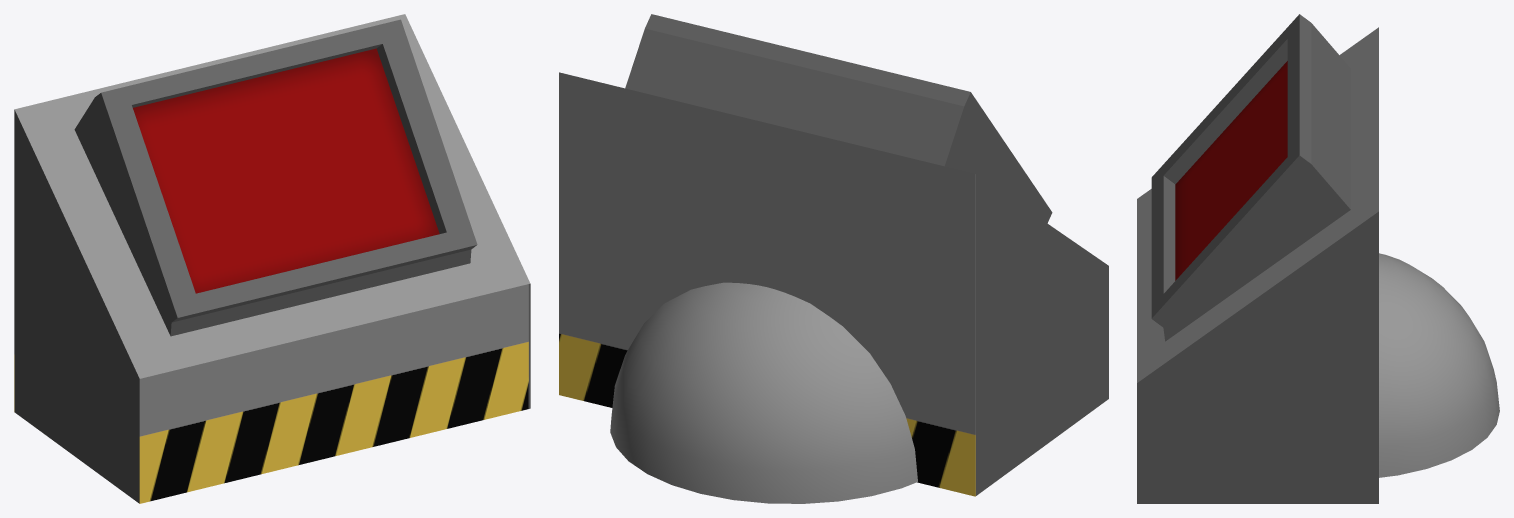
The model's file is console1.fbx.
3 views of the same model, side by side, from view 1: azimuth 30°, elevation 25°; view 2: azimuth 150°, elevation 25°; view 3: azimuth 270°, elevation 25° (orthographic). The views are drawn at different scales.
Visible parts, largest first — view 1: Cube; view 2: Cube; view 3: Cube.
Part boxes in pixels (x1,y1,x2,y2): Cube: [14, 14, 530, 503]; Cube: [559, 14, 1108, 503]; Cube: [1137, 14, 1499, 503].
Bounding box in the file's own units: 200 × 166 × 167.
